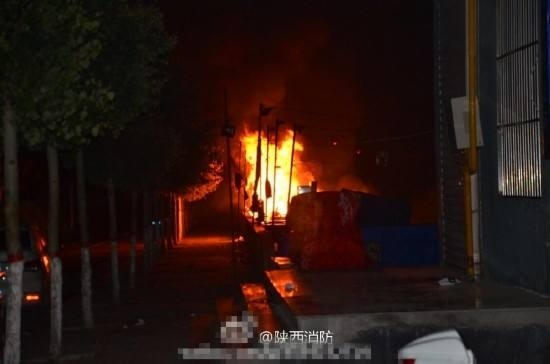fire: (237, 126, 309, 221), (34, 233, 51, 268), (23, 290, 40, 301)
